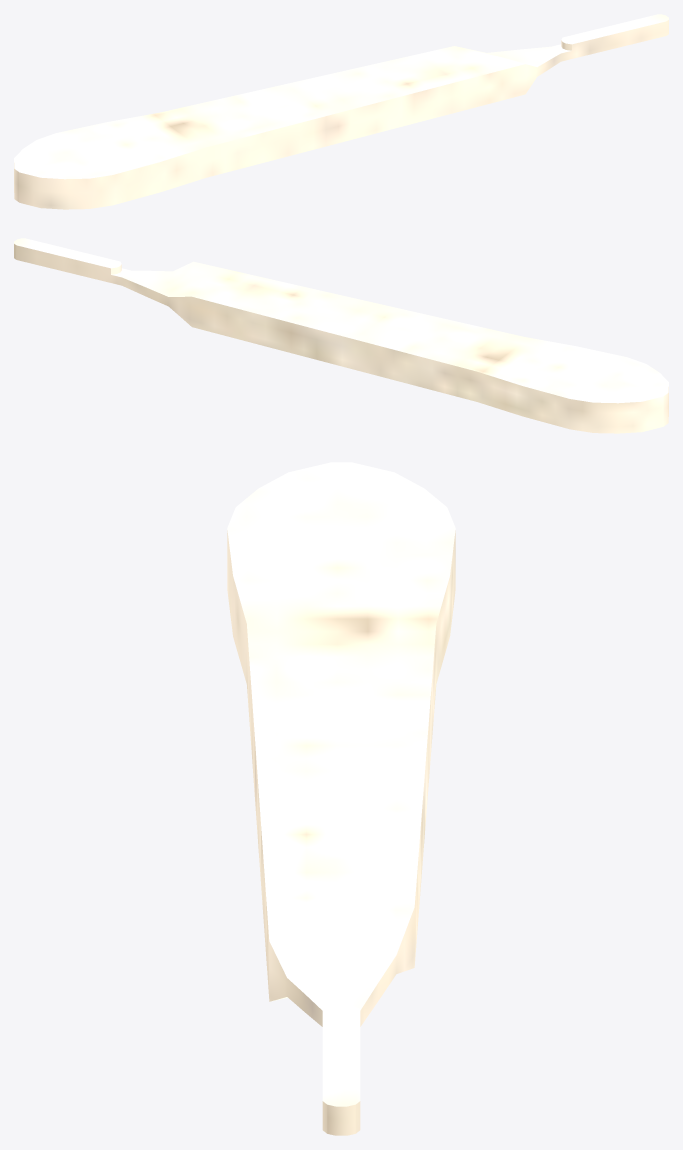
The model's file is SM_OPR_Scalpel_Handle_01.fbx.
3 renders of one model, top to bottom at view 1: azimuth 30°, elevation 25°; view 2: azimuth 150°, elevation 25°; view 3: azimuth 270°, elevation 25°, orthographic. The views are drawn at different scales.
Parts seen in each view (by area): view 1: SM_OPR_Scalpel_Handle_01_LOD0; view 2: SM_OPR_Scalpel_Handle_01_LOD0; view 3: SM_OPR_Scalpel_Handle_01_LOD0.
Part boxes in pixels (box(x1,y1,x2,y2)): SM_OPR_Scalpel_Handle_01_LOD0: box(14, 14, 668, 209); SM_OPR_Scalpel_Handle_01_LOD0: box(14, 238, 668, 433); SM_OPR_Scalpel_Handle_01_LOD0: box(227, 462, 455, 1135).
Bounding box in the file's own units: 11.2 × 1.7 × 0.5.
Materials: 1 (1 with a texture image).
